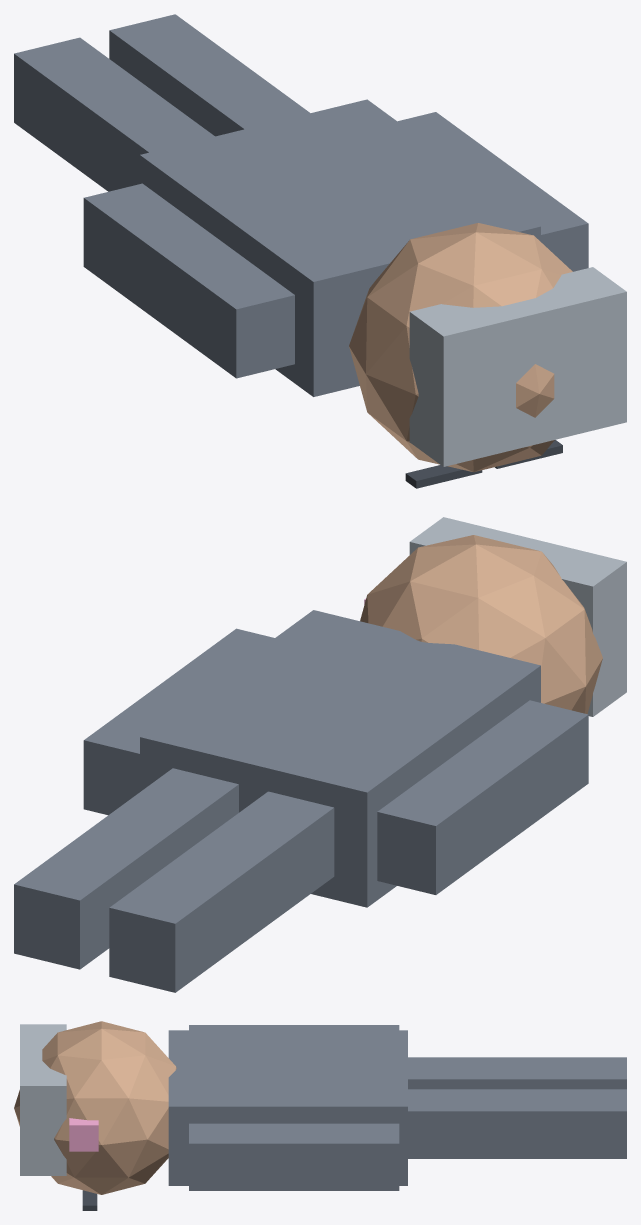
File: engineer_variant_2.glb
3 renders of one model, top to bottom at view 1: azimuth 30°, elevation 25°; view 2: azimuth 150°, elevation 25°; view 3: azimuth 270°, elevation 25°, orthographic. The views are drawn at different scales.
Parts seen in each view (by area): view 1: torso_2, hair_6, arm_l_3, head_5, leg_l_0, leg_r_1, arm_r_4, glasses_l_9; view 2: torso_2, leg_l_0, arm_l_3, head_5, leg_r_1, arm_r_4, hair_6; view 3: torso_2, head_5, leg_r_1, arm_r_4, leg_l_0, hair_6, arm_l_3, earring_or_badge_11, glasses_r_10.
Boxes of the visible parts, box(x1,y1,x2,y2) form: torso_2: box(140, 99, 540, 396); hair_6: box(409, 267, 626, 466); arm_l_3: box(83, 183, 294, 378); head_5: box(349, 223, 572, 472); leg_l_0: box(14, 37, 214, 191); leg_r_1: box(109, 14, 310, 136); arm_r_4: box(397, 112, 588, 271); glasses_l_9: box(405, 465, 482, 488); torso_2: box(140, 610, 540, 907); leg_l_0: box(109, 791, 334, 992); arm_l_3: box(377, 700, 588, 894); head_5: box(360, 535, 602, 714); leg_r_1: box(14, 768, 238, 969); arm_r_4: box(83, 628, 274, 815); hair_6: box(409, 517, 626, 716); torso_2: box(168, 1030, 407, 1185); head_5: box(14, 1021, 176, 1194); leg_r_1: box(408, 1089, 626, 1158); arm_r_4: box(189, 1123, 399, 1190); leg_l_0: box(408, 1057, 626, 1089); hair_6: box(20, 1024, 66, 1175); arm_l_3: box(189, 1025, 399, 1030); earring_or_badge_11: box(69, 1118, 98, 1151); glasses_r_10: box(82, 1190, 97, 1210).
Size of the model in its own units: 0.96 by 0.6 by 2.1.
